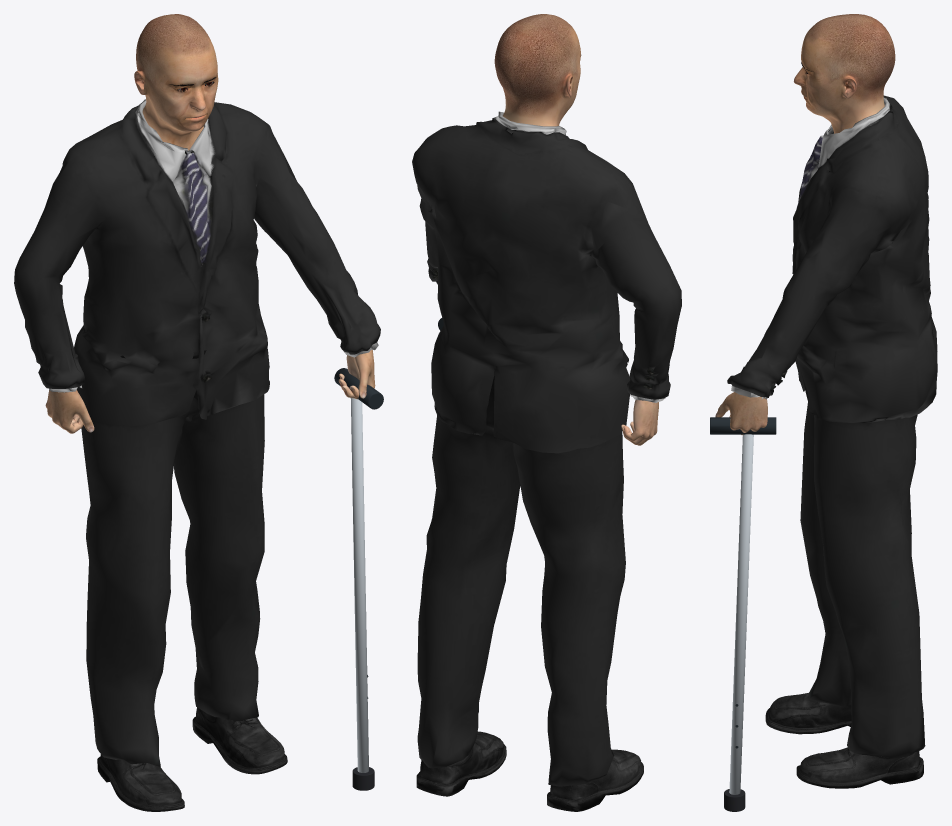
Rendered from ellis-v415.glb.
3 renders of one model, left to right at view 1: azimuth 30°, elevation 25°; view 2: azimuth 150°, elevation 25°; view 3: azimuth 270°, elevation 25°, orthographic. The views are drawn at different scales.
Visible parts, largest first — view 1: male_elegantsuit01, Ellis | anatomical body, shoes04, Cane | original adjustable shaft, Cane | short grip core; view 2: male_elegantsuit01, Ellis | anatomical body, shoes04; view 3: male_elegantsuit01, Ellis | anatomical body, shoes04, Cane | original adjustable shaft, Cane | short grip core.
Part boxes in pixels (x1=…): male_elegantsuit01: x1=14, y1=99, x2=380, y2=766; Ellis | anatomical body: x1=45, y1=14, x2=375, y2=433; shoes04: x1=97, y1=707, x2=287, y2=811; Cane | original adjustable shaft: x1=350, y1=398, x2=368, y2=772; Cane | short grip core: x1=334, y1=368, x2=383, y2=409; male_elegantsuit01: x1=412, y1=111, x2=681, y2=786; Ellis | anatomical body: x1=494, y1=14, x2=658, y2=445; shoes04: x1=416, y1=731, x2=643, y2=811; male_elegantsuit01: x1=727, y1=95, x2=937, y2=757; Ellis | anatomical body: x1=715, y1=14, x2=895, y2=435; shoes04: x1=765, y1=693, x2=923, y2=788; Cane | original adjustable shaft: x1=729, y1=434, x2=753, y2=794; Cane | short grip core: x1=710, y1=417, x2=776, y2=434.
Bounding box in the file's own units: 0.728 × 1.74 × 0.4926.
Materials: 10 (10 with a texture image).
